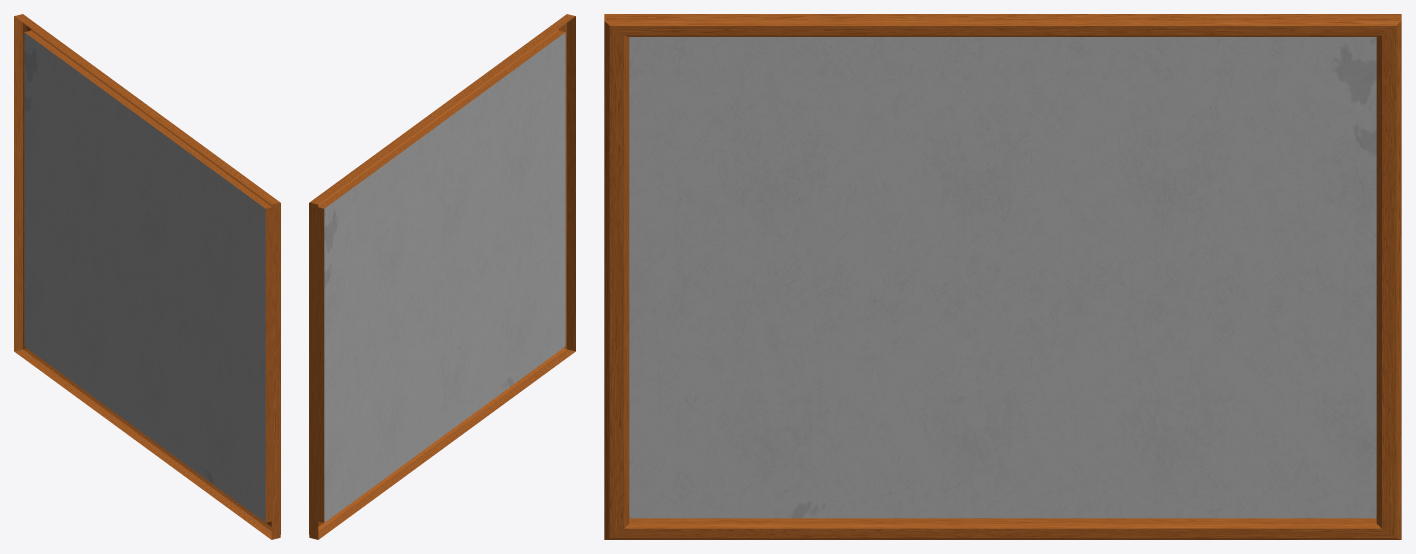
Rendered from DESK.fbx.
3 views of the same model, side by side, from view 1: azimuth 30°, elevation 25°; view 2: azimuth 150°, elevation 25°; view 3: azimuth 270°, elevation 25° (orthographic). The views are drawn at different scales.
Visible parts, largest first — view 1: Cube; view 2: Cube; view 3: Cube.
Part boxes in pixels (bbox=[...]): Cube: bbox=[14, 14, 280, 539]; Cube: bbox=[309, 14, 575, 539]; Cube: bbox=[604, 14, 1401, 539].
Bounding box in the file's own units: 12.48 × 360 × 501.
1 material, 1 textured.
